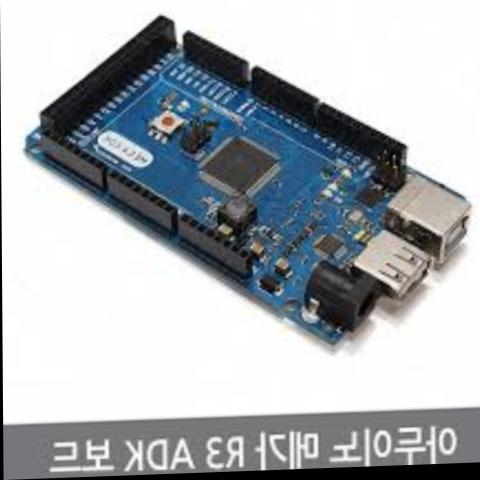Arduino-Mega: (15, 1, 480, 365)
